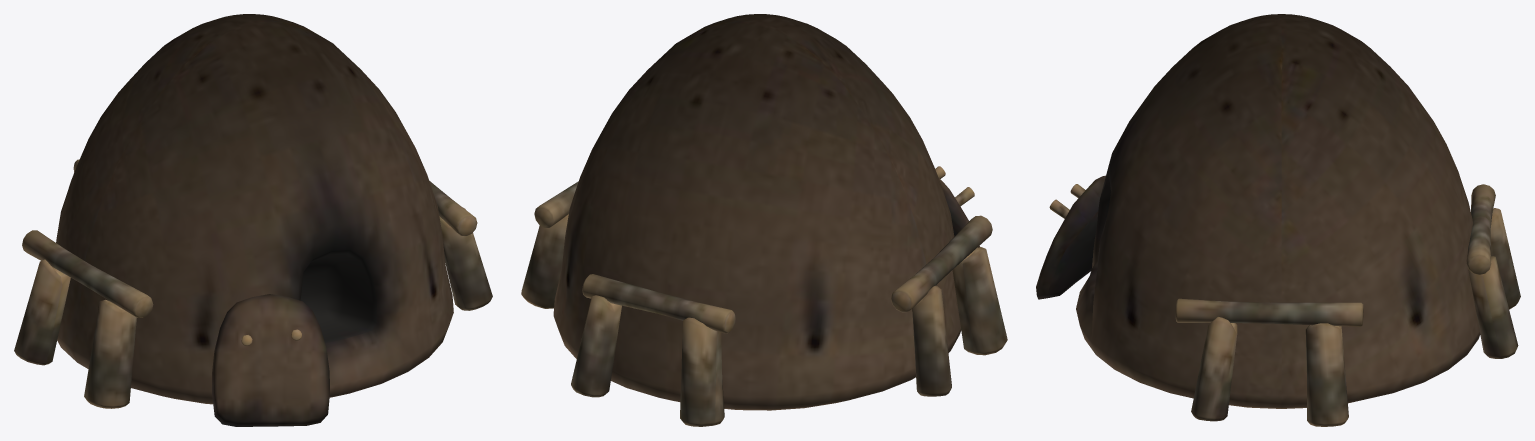
The model's file is charcoal_kiln.glb.
3 views of the same model, side by side, from view 1: azimuth 30°, elevation 25°; view 2: azimuth 150°, elevation 25°; view 3: azimuth 270°, elevation 25° (orthographic).
Visible parts, largest first — view 1: props_production_charcoal_kiln_01; view 2: props_production_charcoal_kiln_01; view 3: props_production_charcoal_kiln_01.
Part boxes in pixels (x1,y1,x2,y2): props_production_charcoal_kiln_01: [14, 14, 492, 426]; props_production_charcoal_kiln_01: [521, 14, 1007, 426]; props_production_charcoal_kiln_01: [1036, 14, 1520, 426].
Size of the model in its own units: 2.8 by 1.98 by 2.78.
Materials: 1 (1 with a texture image).
